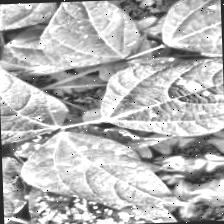Bean Rust: (17, 131, 184, 214), (99, 51, 224, 138), (28, 176, 185, 224), (39, 0, 140, 66), (0, 55, 64, 144), (162, 0, 222, 58), (1, 155, 27, 224), (0, 2, 52, 30)
